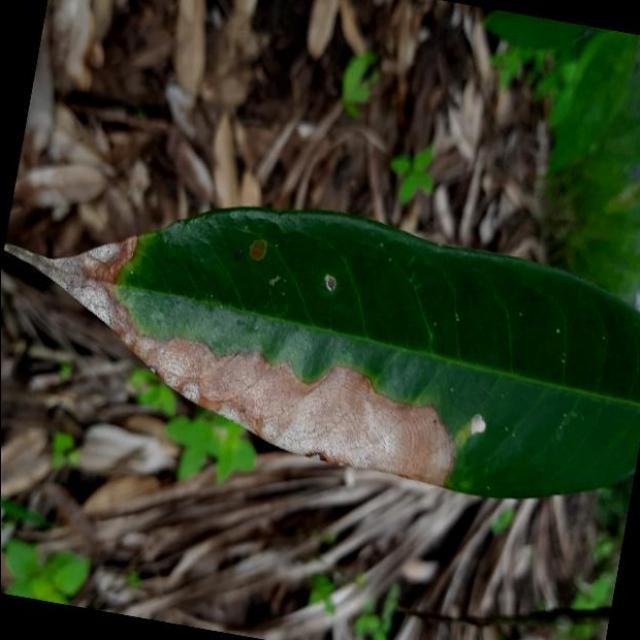Leaf Blight: (0, 148, 640, 532)
